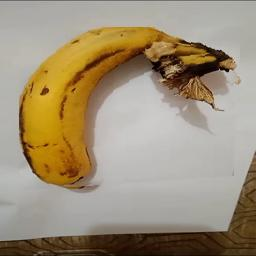Banana Semifresh: (20, 27, 243, 191)
